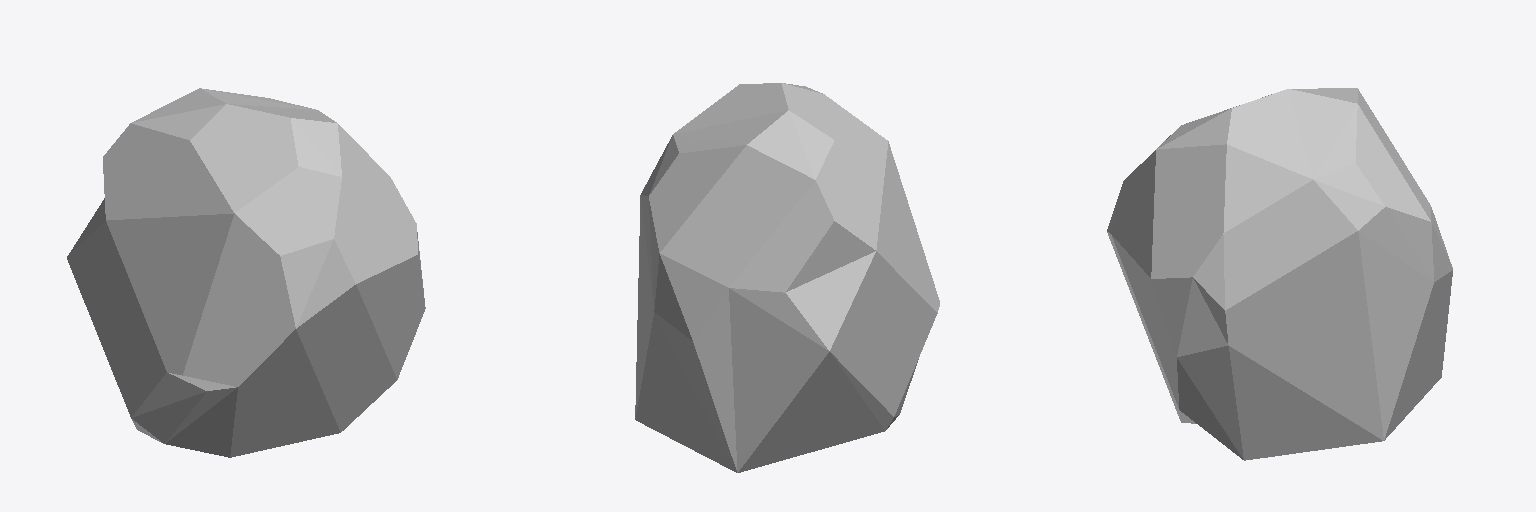
The model's file is boulder.obj.
The picture shows the model from 3 angles: view 1: azimuth 30°, elevation 25°; view 2: azimuth 150°, elevation 25°; view 3: azimuth 270°, elevation 25°; orthographic projection.
Visible parts, largest first — view 1: pPlatonic1; view 2: pPlatonic1; view 3: pPlatonic1.
Part boxes in pixels (x1,y1,x2,y2): pPlatonic1: (67, 88, 425, 457); pPlatonic1: (635, 83, 939, 472); pPlatonic1: (1107, 88, 1452, 460).
Bounding box in the file's own units: 6.78 × 7.77 × 7.86.